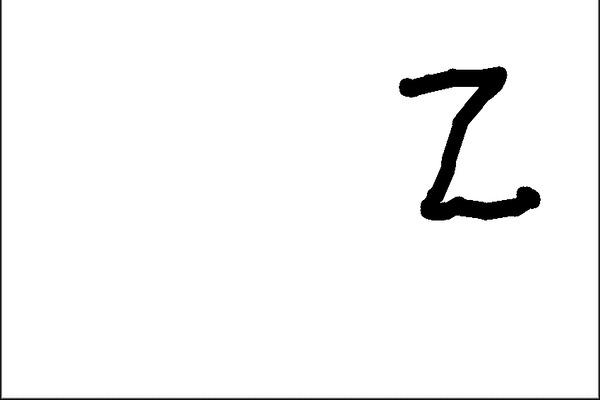Z: (392, 59, 546, 229)
